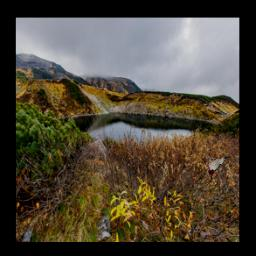Woodpecker: (205, 157, 229, 175)
